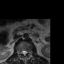CCS_normal: (23, 48, 25, 57)
LFS_stenosis: (27, 49, 29, 54)
LLS_normal: (25, 49, 27, 55)
RFS_normal: (19, 49, 21, 55)
RLS_normal: (21, 49, 23, 55)
